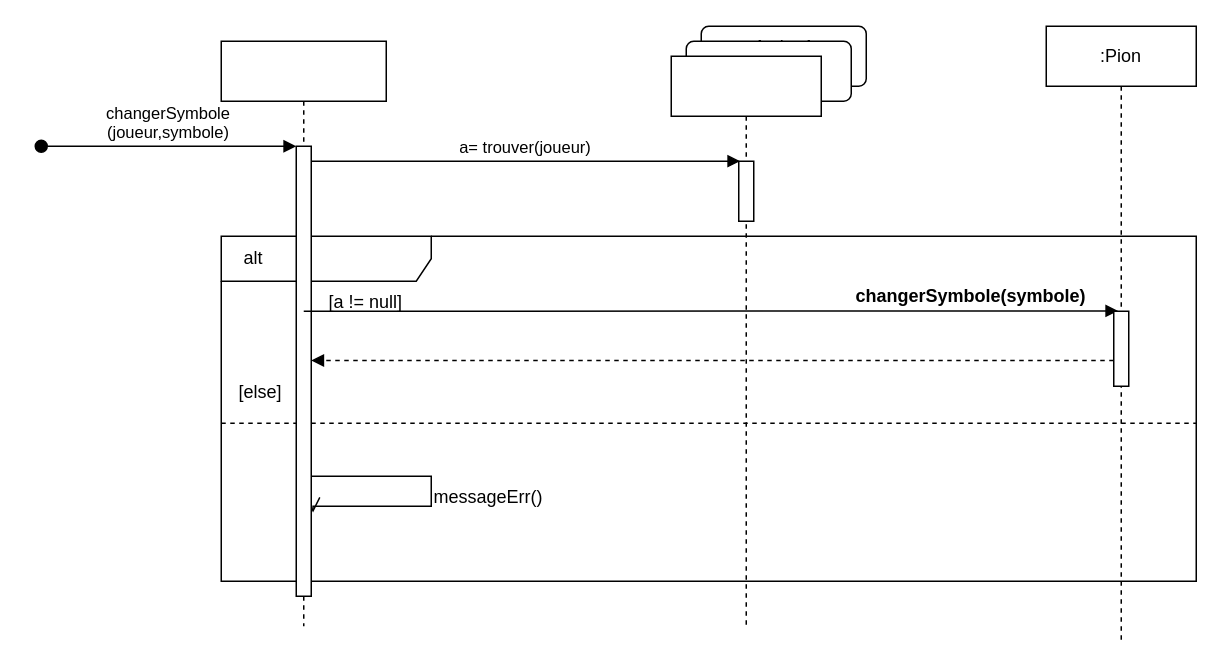
This 1223x668 diagram has some shape labels left out. Here are the shapes that lost their labels. From the top down, the box of each, then its label:
(220, 40, 386, 626): :System
(670, 55, 821, 626): :Joueur
